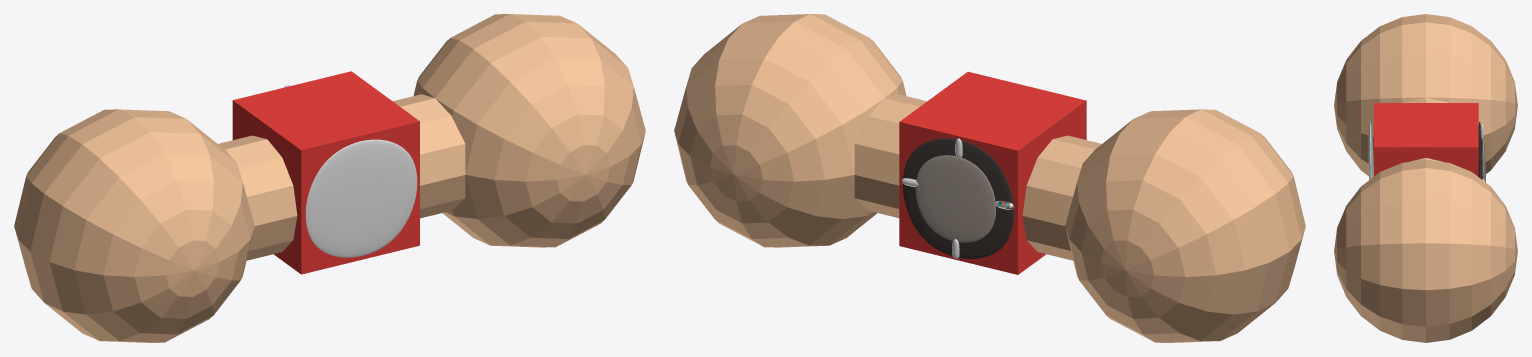
The model's file is HuesoBomba.fbx.
The picture shows the model from 3 angles, left to right: view 1: azimuth 30°, elevation 25°; view 2: azimuth 150°, elevation 25°; view 3: azimuth 270°, elevation 25°; orthographic projection. The views are drawn at different scales.
Parts seen in each view (by area): view 1: Hueso, Cube, Cube.002; view 2: Hueso, Cube, Cube.003, Cube.001; view 3: Hueso, Cube, Cube.002, Cube.001, Cube.003.
Boxes of the visible parts, box(x1,y1,x2,y2) form: Hueso: box(14, 14, 645, 342); Cube: box(232, 71, 419, 274); Cube.002: box(305, 139, 417, 257); Hueso: box(674, 14, 1305, 342); Cube: box(899, 71, 1086, 274); Cube.003: box(915, 155, 995, 242); Cube.001: box(903, 138, 1013, 258); Hueso: box(1334, 14, 1517, 342); Cube: box(1374, 103, 1478, 176); Cube.002: box(1368, 121, 1373, 179); Cube.001: box(1478, 121, 1482, 179); Cube.003: box(1482, 138, 1485, 182).
Size of the model in its own units: 138 by 47.96 by 47.96.
Materials: 1 (1 with a texture image).
